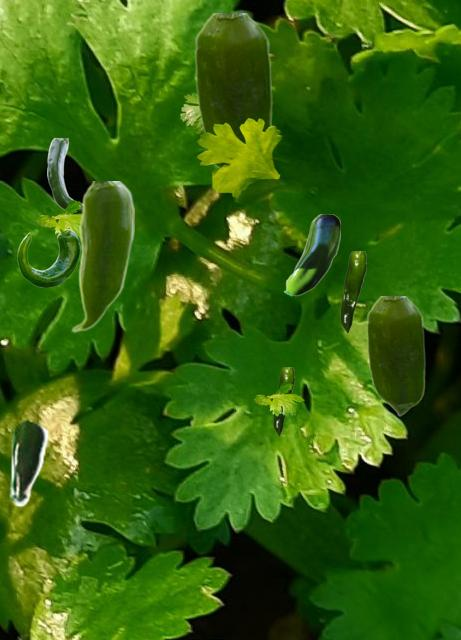green_chili: (194, 13, 271, 141), (70, 181, 133, 332), (366, 296, 424, 415), (283, 214, 339, 295), (7, 419, 48, 506), (17, 229, 79, 286), (47, 138, 80, 212), (340, 251, 365, 332), (273, 367, 293, 435), (206, 149, 223, 168)
